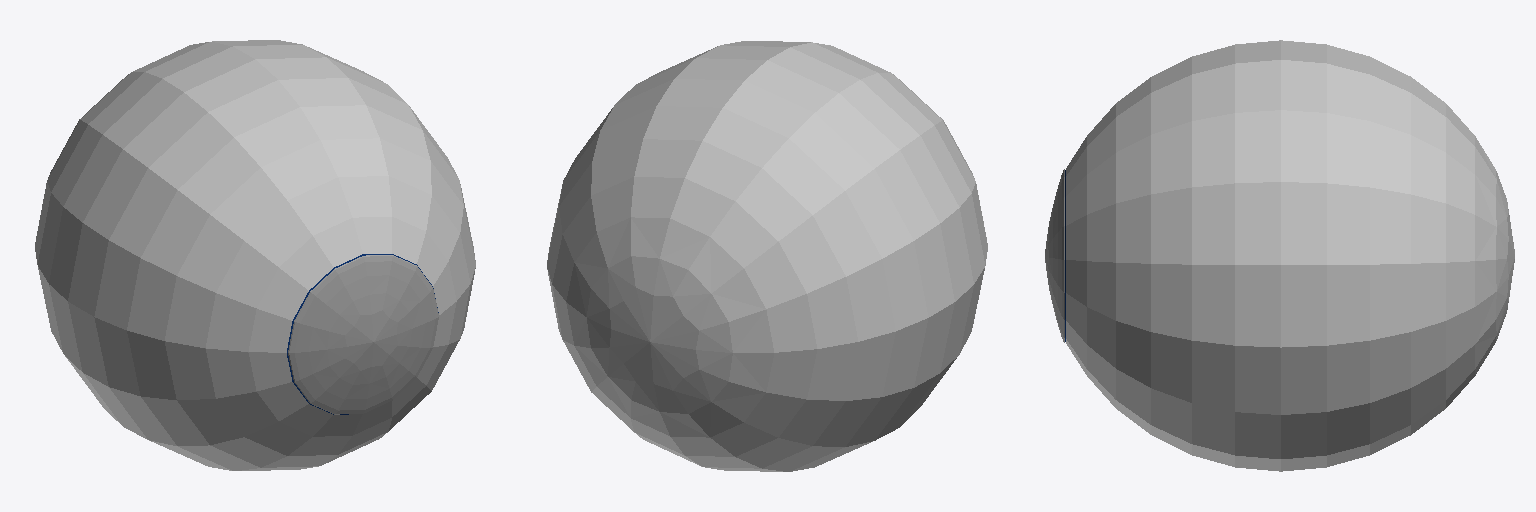
The model's file is eye.obj.
The picture shows the model from 3 angles: view 1: azimuth 30°, elevation 25°; view 2: azimuth 150°, elevation 25°; view 3: azimuth 270°, elevation 25°; orthographic projection.
Visible parts, largest first — view 1: 3DEye; view 2: 3DEye; view 3: 3DEye.
Boxes of the visible parts, x1,y1,x2,y2 form: 3DEye: [35, 40, 475, 470]; 3DEye: [547, 41, 987, 471]; 3DEye: [1045, 40, 1514, 471].
Bounding box in the file's own units: 194 × 194 × 211.